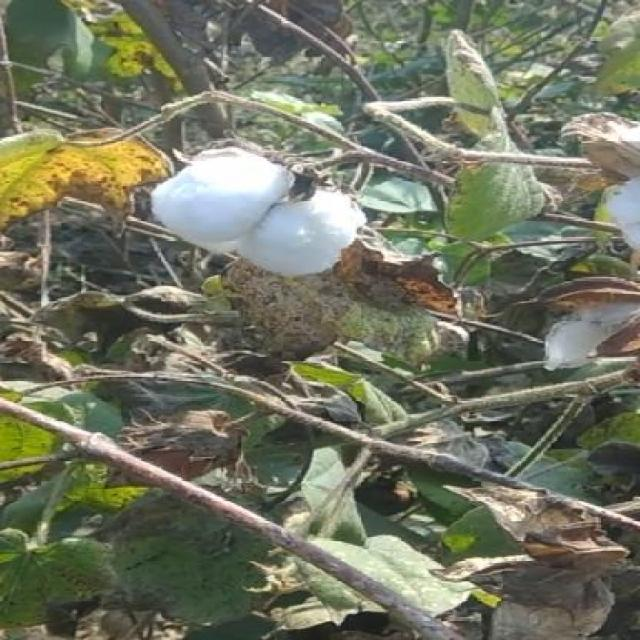cotton_ready: (142, 153, 376, 275)
